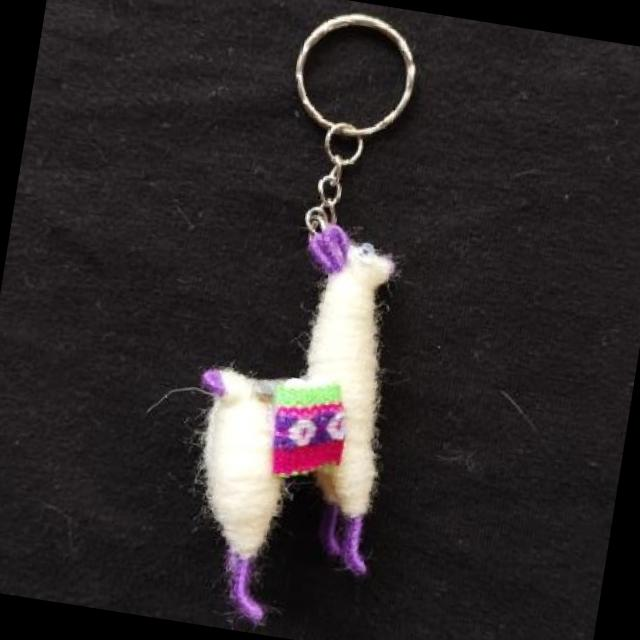Llavero: (116, 199, 422, 640)
